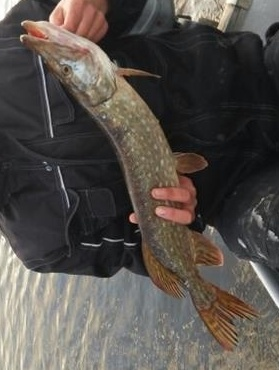Esox lucius: (20, 20, 259, 350)
